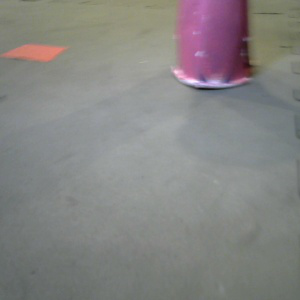right: (172, 1, 255, 88)
